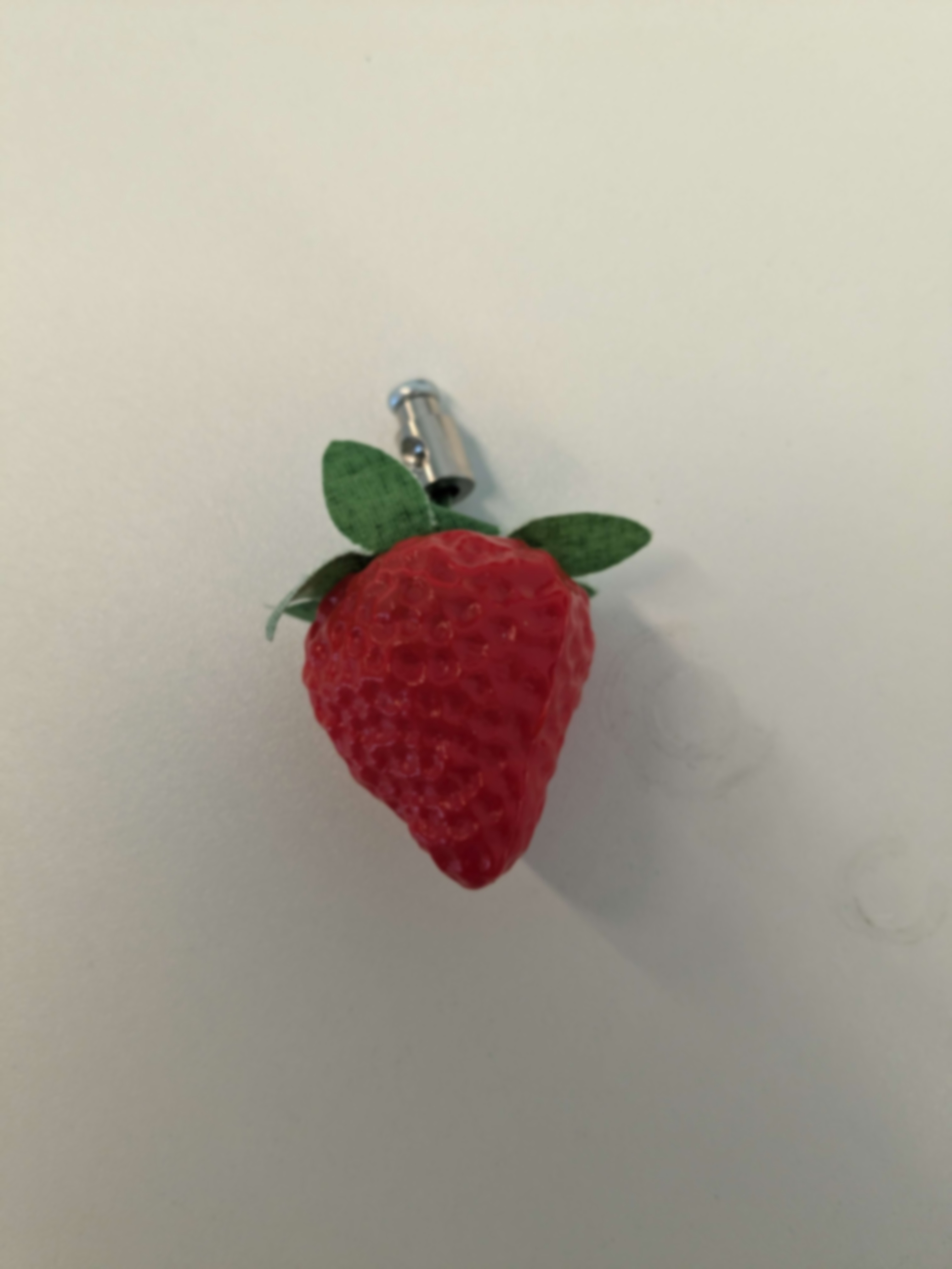Strawberry: (263, 502, 620, 919)
